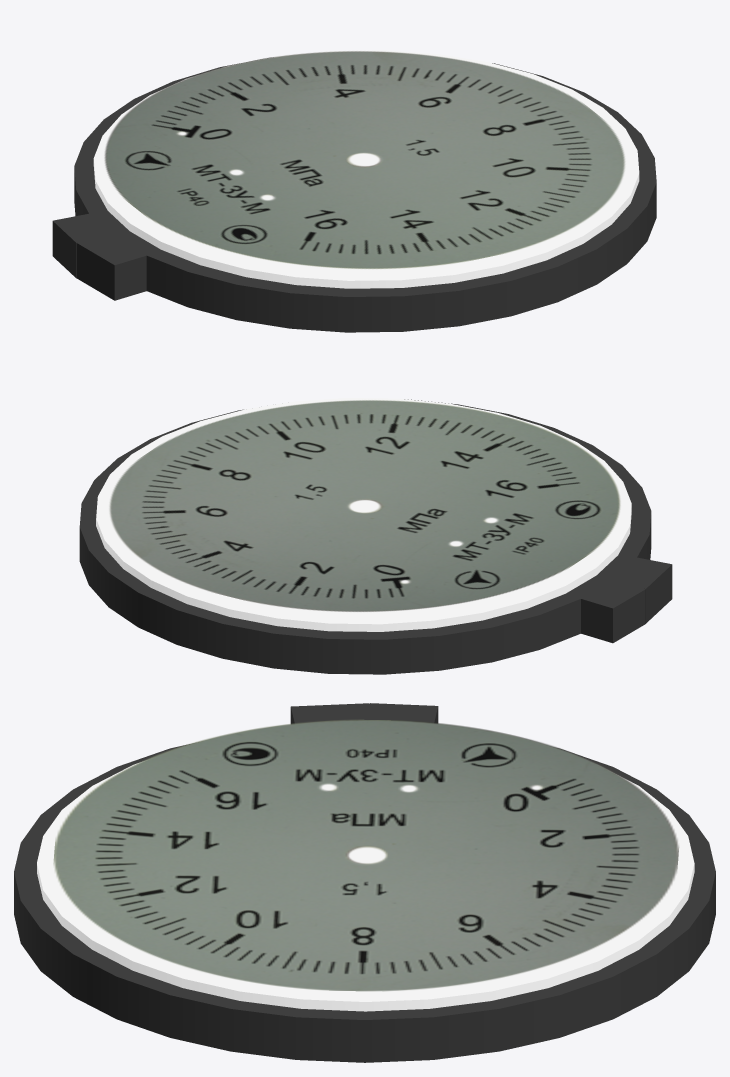
File: manom2.glb
3 renders of one model, top to bottom at view 1: azimuth 30°, elevation 25°; view 2: azimuth 150°, elevation 25°; view 3: azimuth 270°, elevation 25°, orthographic. The views are drawn at different scales.
Parts seen in each view (by area): view 1: MTU16MPA1, Circle, Circle.001; view 2: MTU16MPA1, Circle, Circle.001; view 3: MTU16MPA1, Circle, Circle.001.
Part boxes in pixels (x1,y1,x2,y2): MTU16MPA1: [104, 51, 625, 268]; Circle: [52, 57, 656, 332]; Circle.001: [93, 50, 639, 288]; MTU16MPA1: [109, 400, 620, 611]; Circle: [79, 399, 672, 674]; Circle.001: [96, 398, 631, 631]; MTU16MPA1: [53, 719, 678, 991]; Circle: [14, 703, 715, 1062]; Circle.001: [37, 761, 694, 1011].
Bounding box in the file's own units: 2.14 × 0.1992 × 2.
3 materials, 2 textured.
